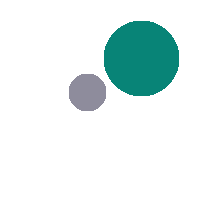circle: (104, 21, 178, 95), (69, 74, 105, 110)
